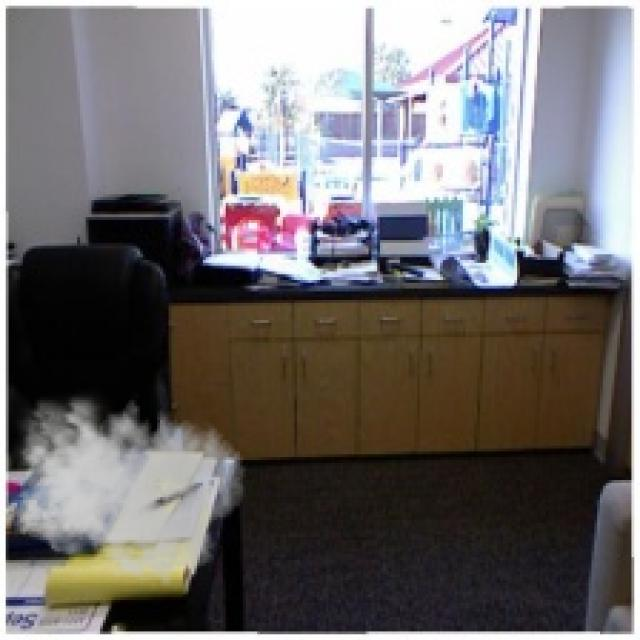smoke: (6, 386, 246, 586)
